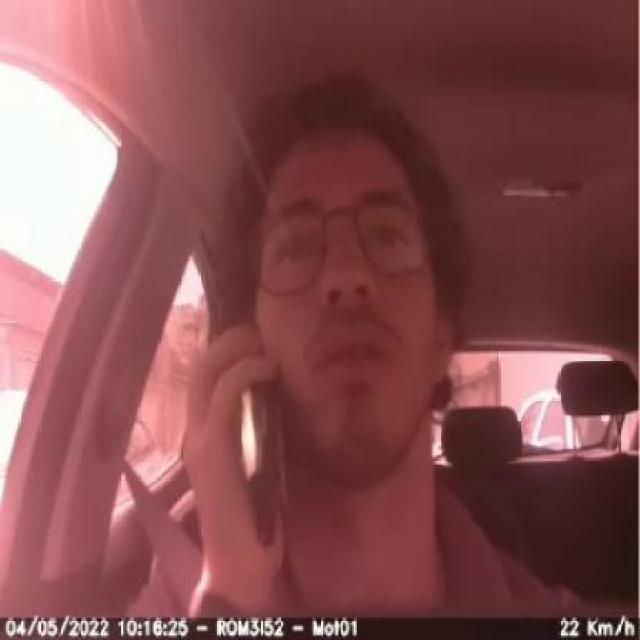using_phone: (146, 248, 329, 578)
